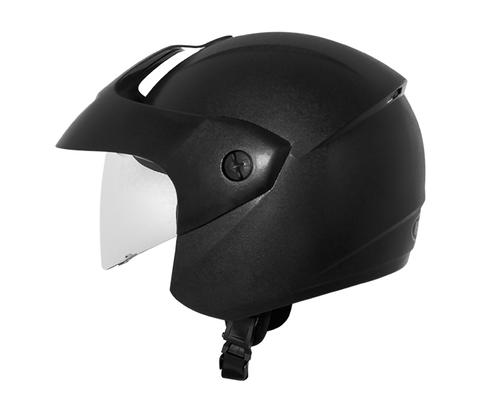with_helmet: (50, 30, 430, 330)
